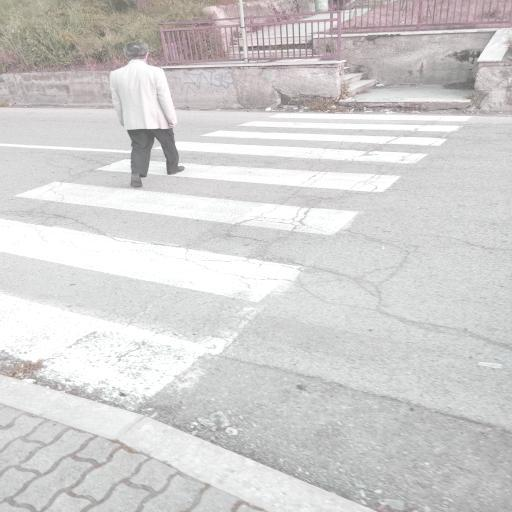crosswalk: (0, 214, 308, 432), (81, 139, 447, 196)
